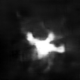plane: (23, 30, 66, 64)
